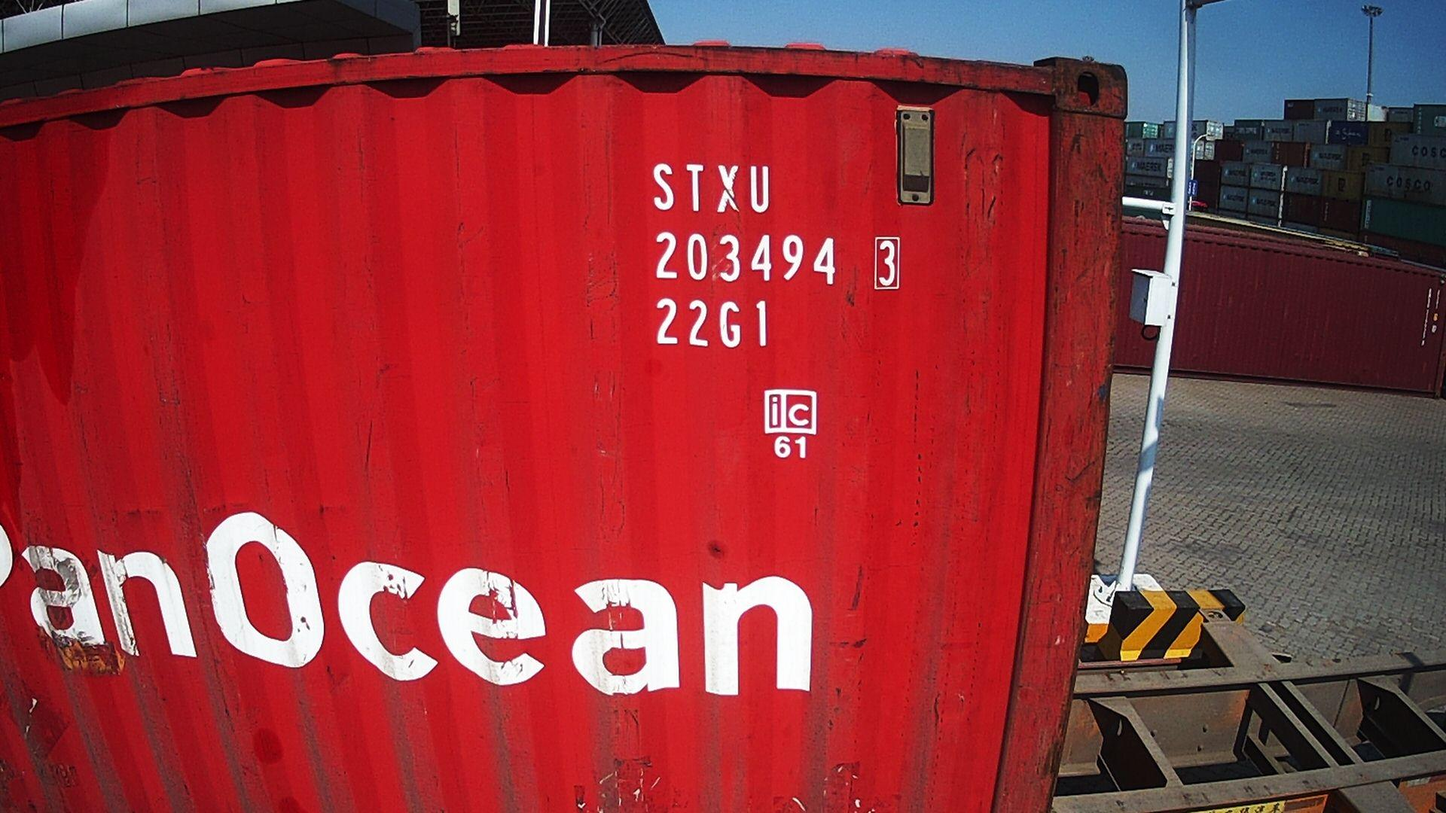container-numbers: (650, 229, 905, 291), (650, 294, 777, 353), (648, 160, 776, 218)
